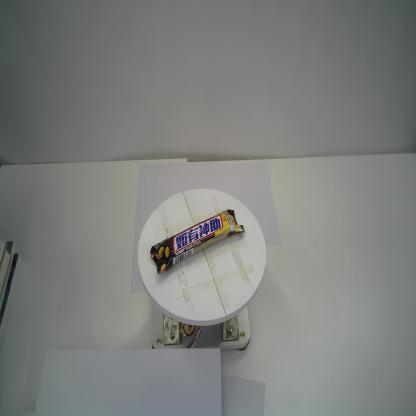Chocolate: (150, 208, 245, 275)
